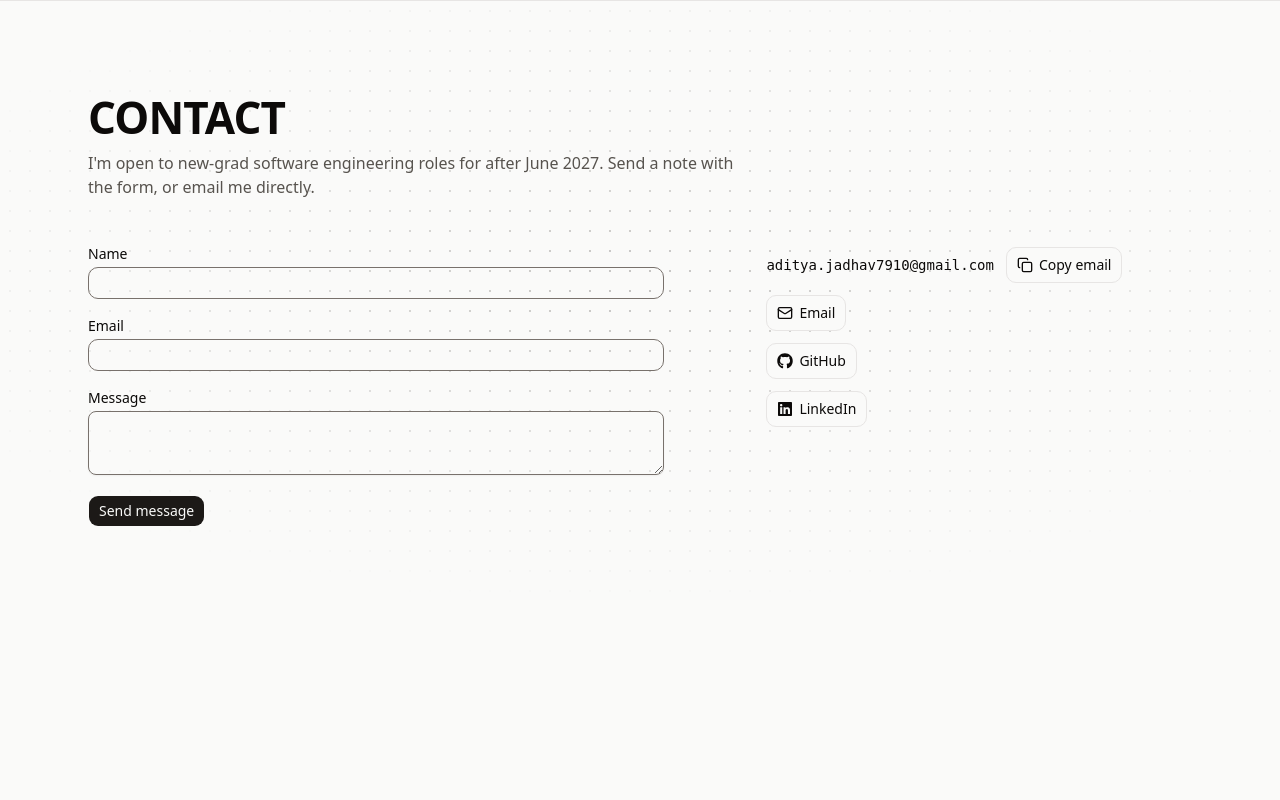
Test: Contact › announces success in a live region
This screenshot has width=1280, height=800.
Type "Test Person" into the field labelled "Name" at (376, 283), box [88,267,664,299]
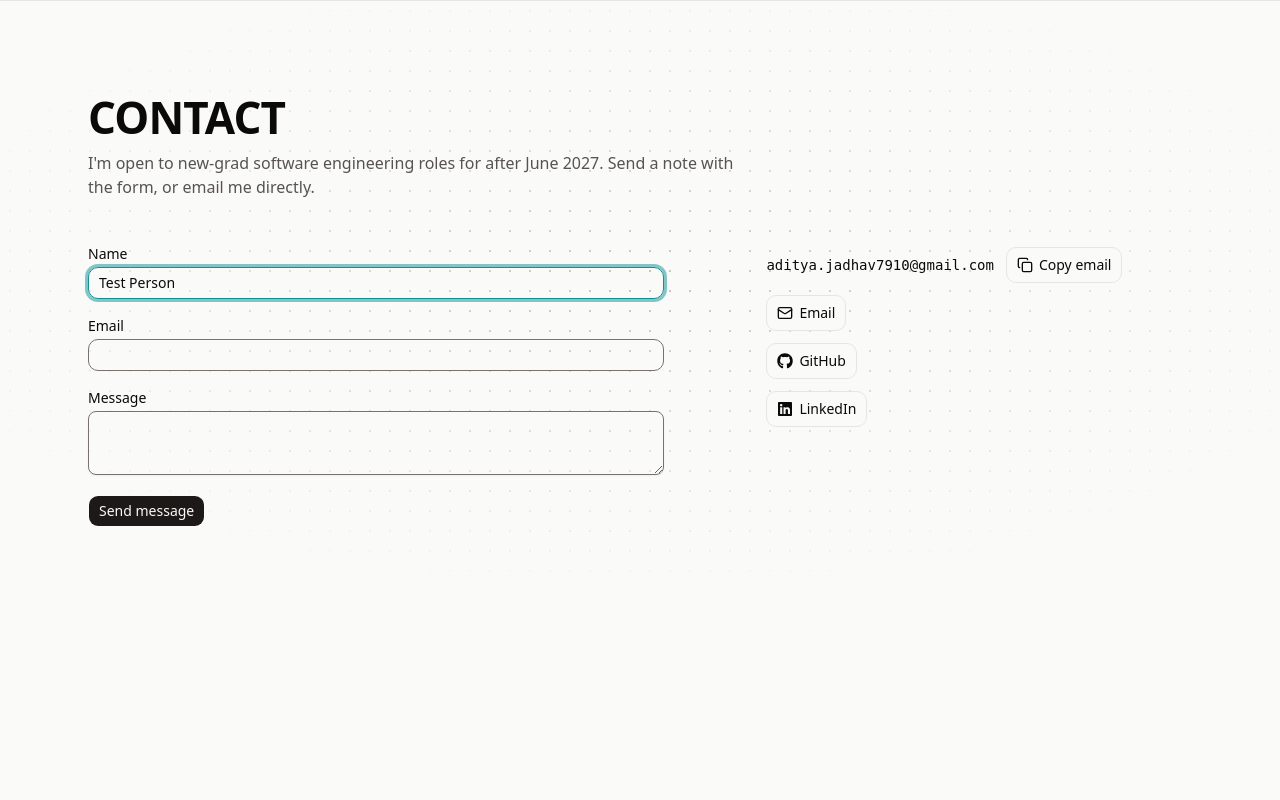
Type "test@example.com" into the field labelled "Email" at (376, 355), box [88,339,664,371]
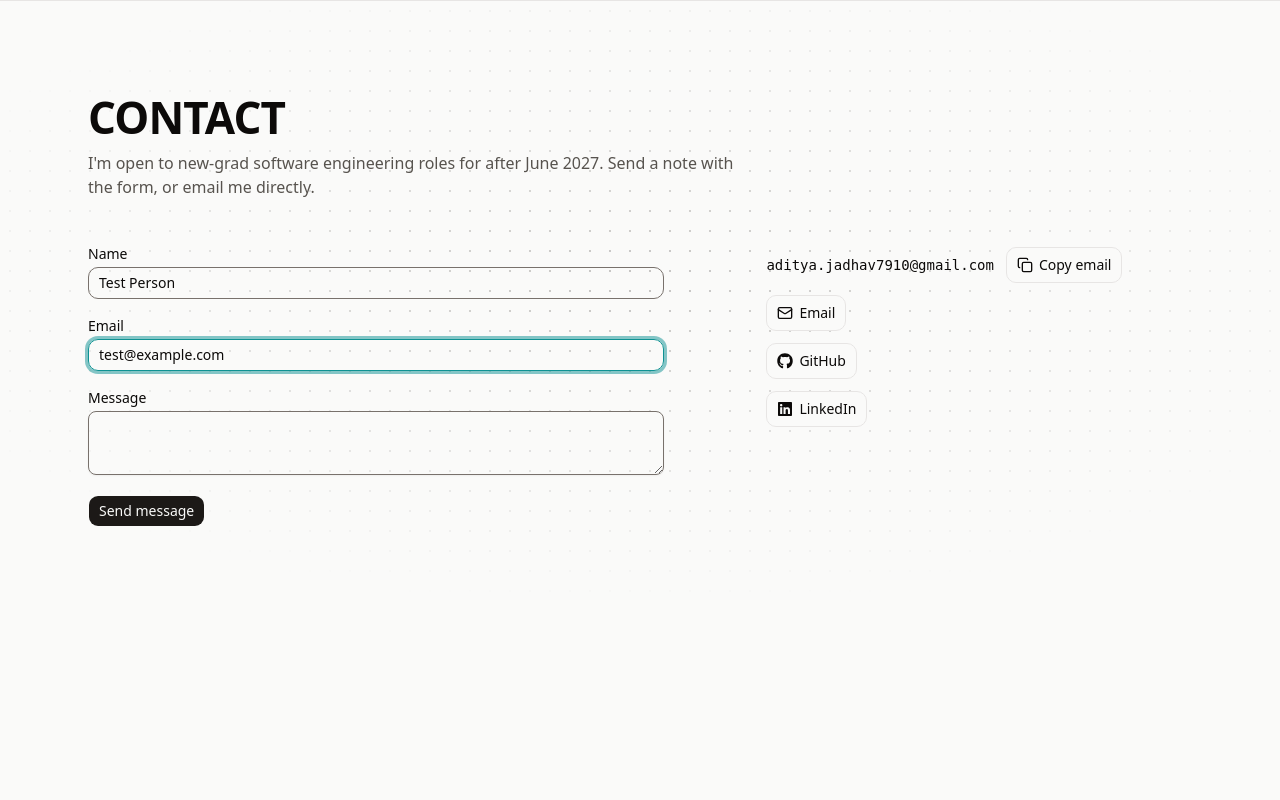
Type "Hello there" into the text box labelled "Message" at (376, 443), box [88,411,664,475]
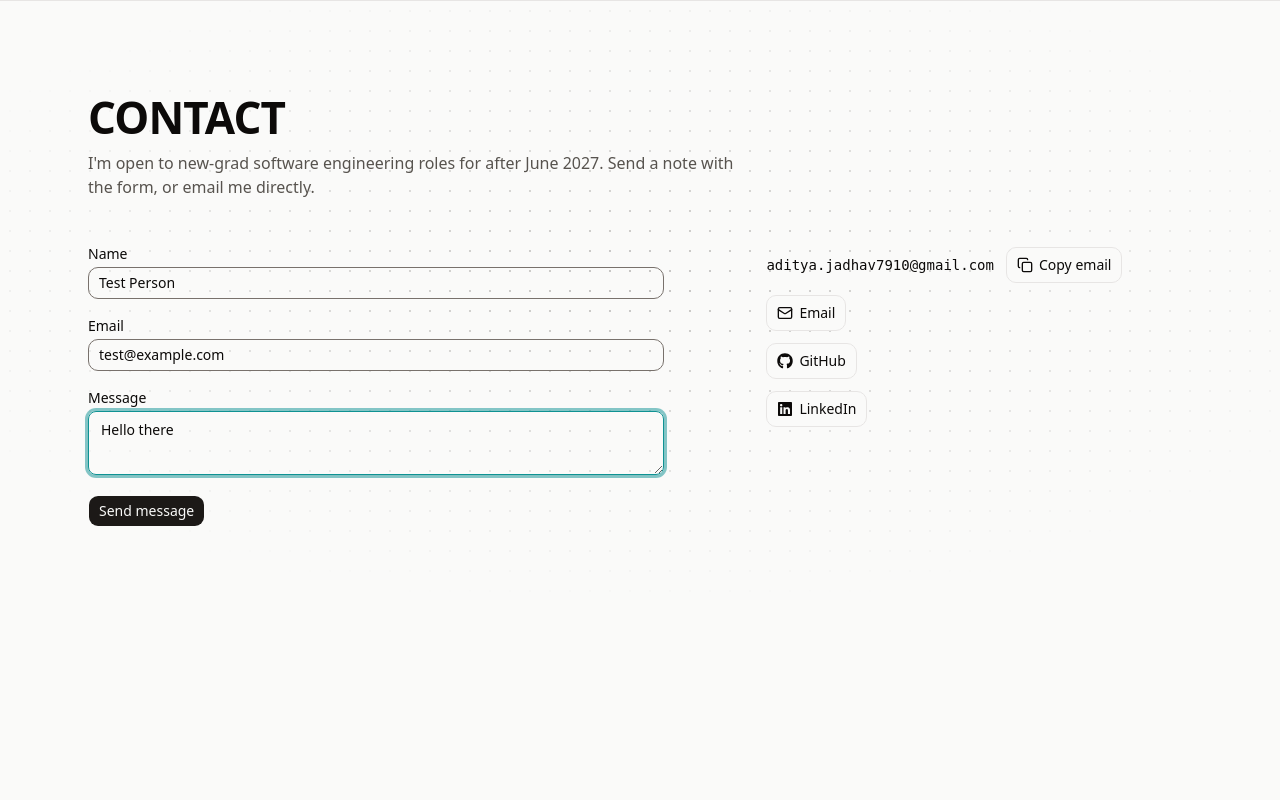
Click the button "Send message" at (147, 511), box [88,495,205,527]
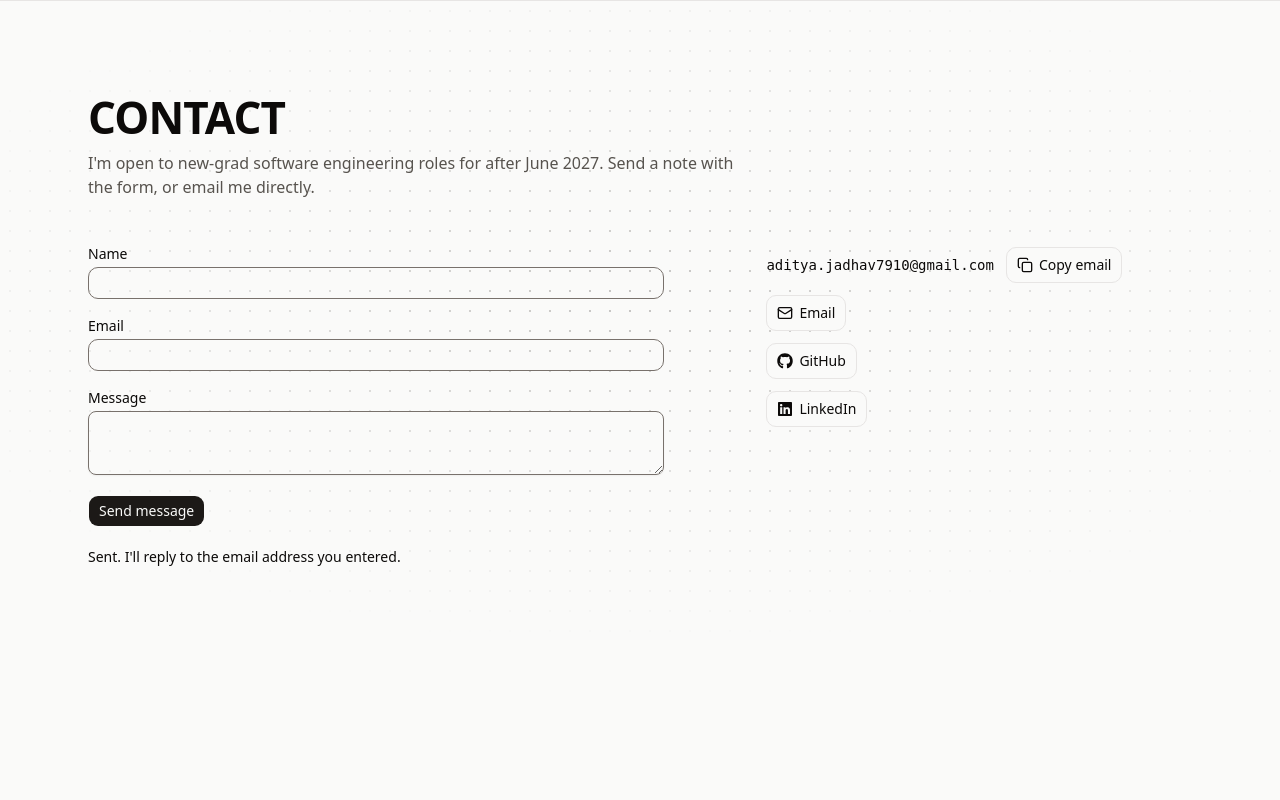
Expected: the message reads "Sent. I'll reply to the email address you entered.", [88,547,401,566]
